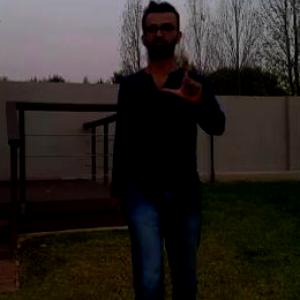land_hand: (159, 51, 207, 107)
